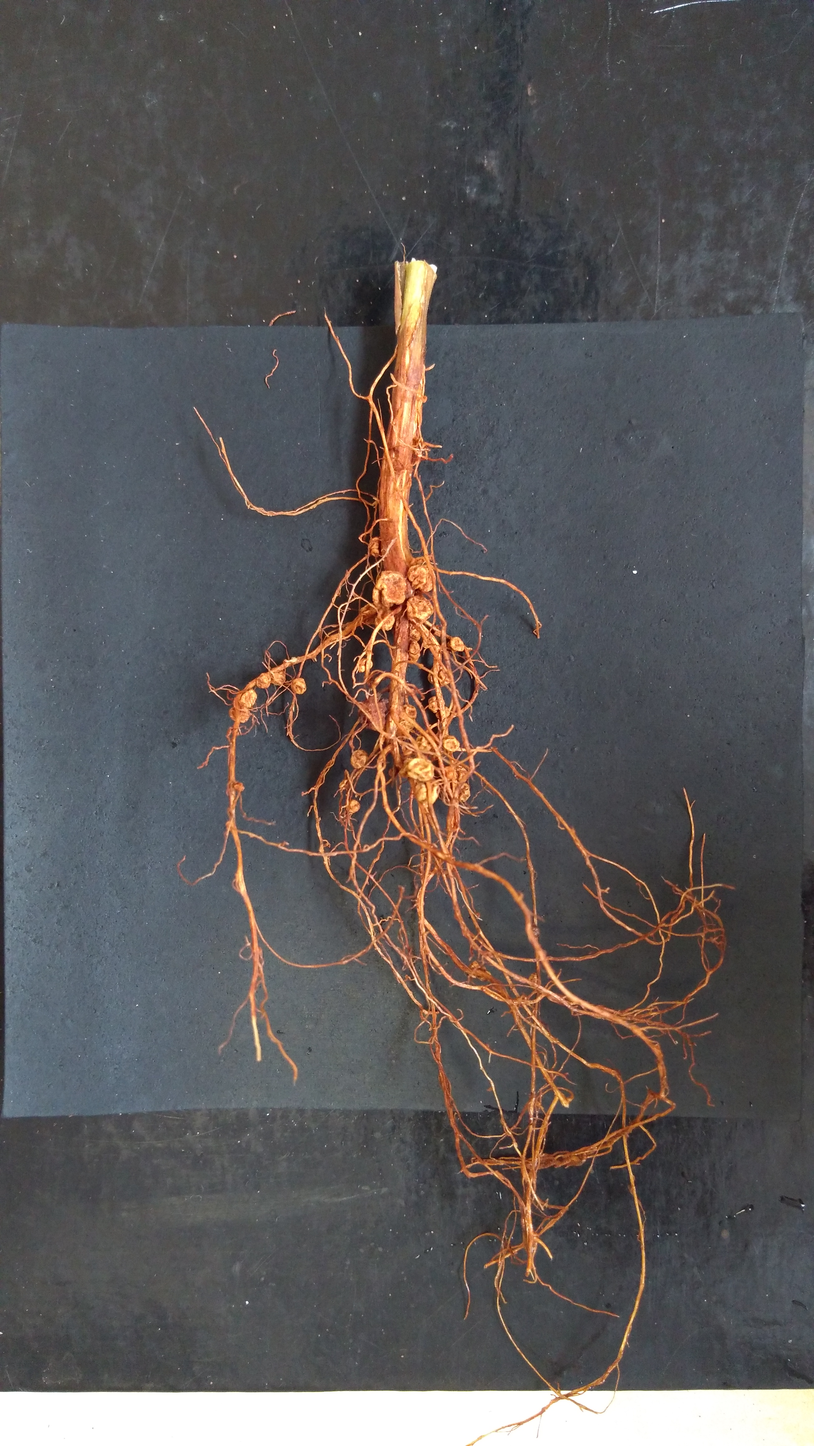nodule: (369, 568, 408, 606), (356, 692, 388, 732), (405, 559, 436, 595), (404, 593, 435, 623), (411, 780, 442, 809), (405, 756, 436, 784), (372, 606, 398, 634), (426, 664, 451, 688), (226, 704, 252, 725), (348, 747, 369, 771), (358, 601, 377, 627), (237, 688, 259, 710), (252, 671, 274, 692), (290, 674, 308, 699), (449, 634, 470, 654), (399, 700, 418, 721), (405, 621, 423, 643), (346, 794, 363, 817), (457, 780, 473, 804), (442, 734, 460, 755), (424, 693, 441, 715), (407, 641, 422, 664), (454, 763, 470, 783), (270, 670, 287, 687), (434, 705, 451, 721), (357, 658, 374, 673), (397, 720, 416, 733), (368, 536, 380, 556), (234, 782, 245, 791)
